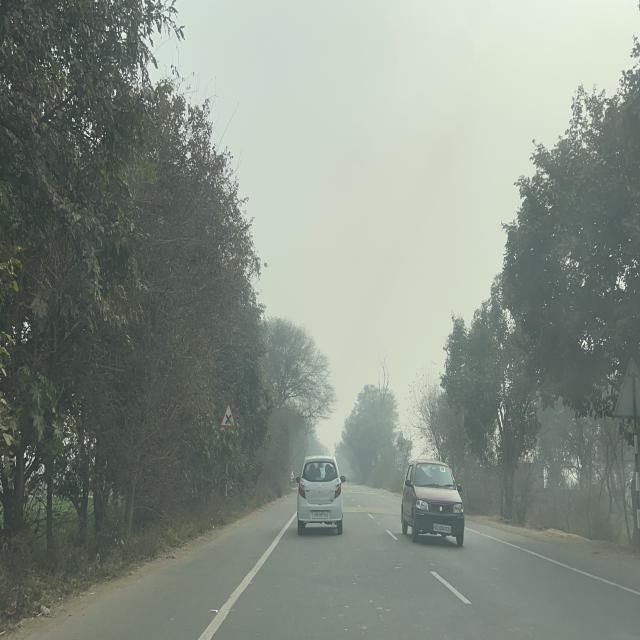CROSS_ROAD: (220, 400, 237, 430)
